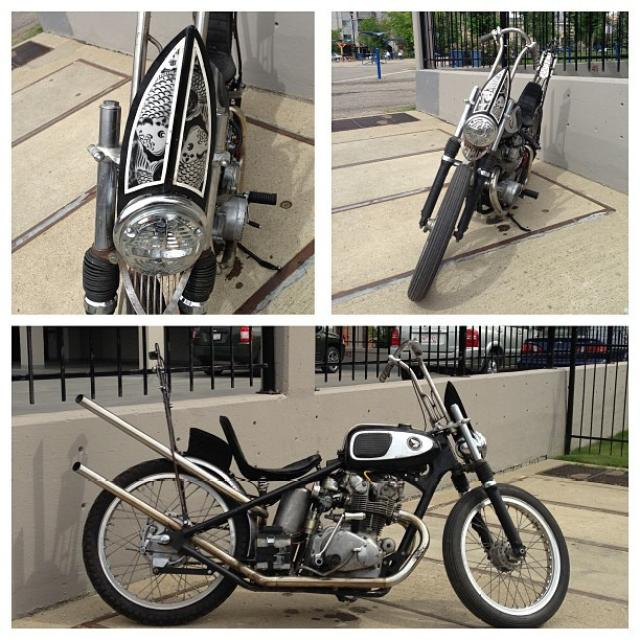motor: (76, 343, 569, 625), (82, 7, 246, 318), (408, 25, 559, 300)
